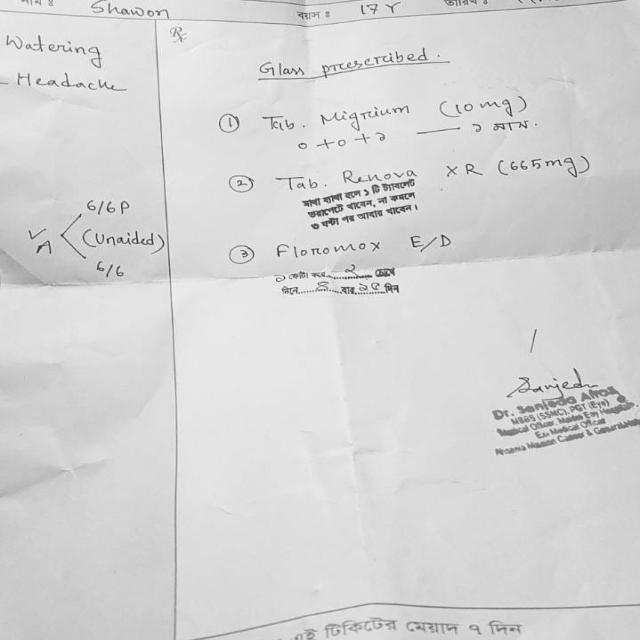medicine: (334, 162, 486, 185), (313, 102, 418, 128), (266, 238, 389, 260)
